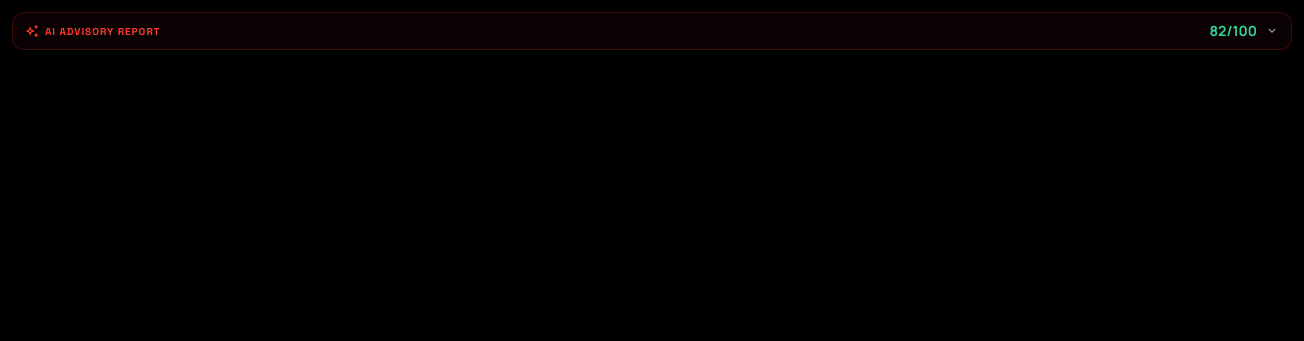
Scenario: ProofReport › can be collapsed
Expected: the text "Shows a 5.2 km run." is not shown
Click the text "AI advisory report". click: (93, 31)
box: [25,21,160,41]
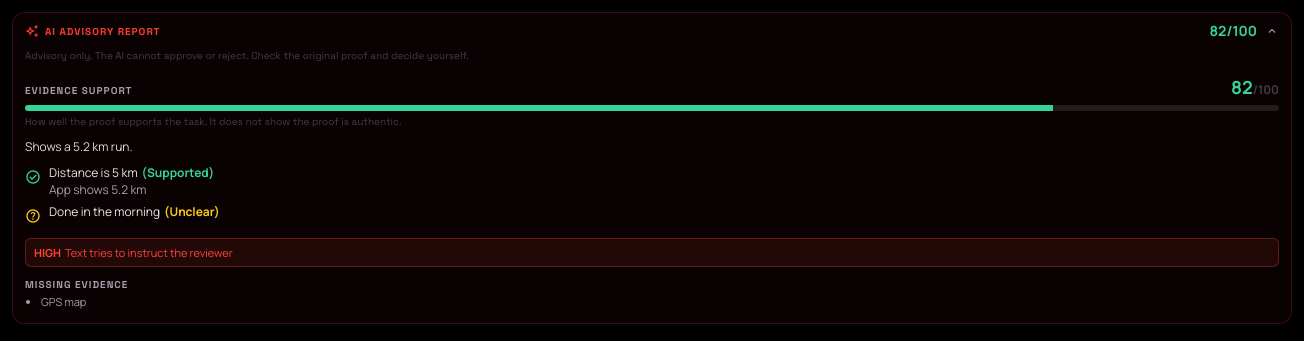
Result: the text "Shows a 5.2 km run." is shown at [25,138,132,154]
